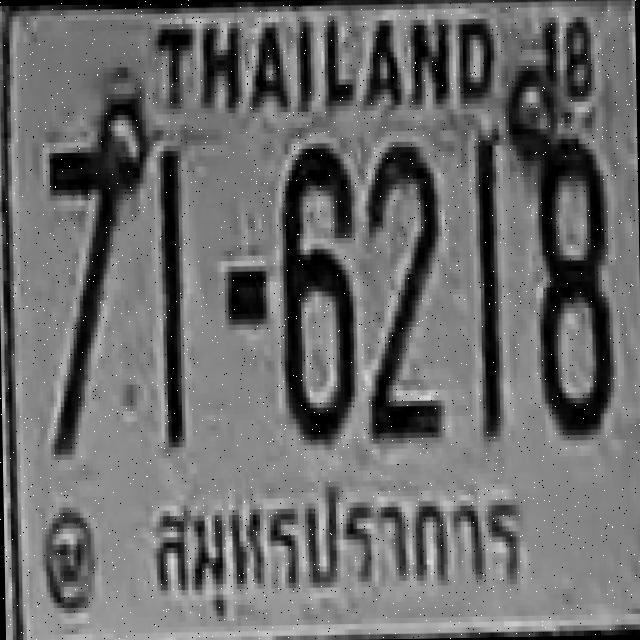1: (473, 132, 502, 434), (158, 143, 184, 444)
2: (362, 141, 440, 438)
6: (277, 140, 355, 437)
7: (44, 117, 150, 452)
8: (526, 127, 611, 430)
SamutPrakan: (148, 468, 531, 616)
